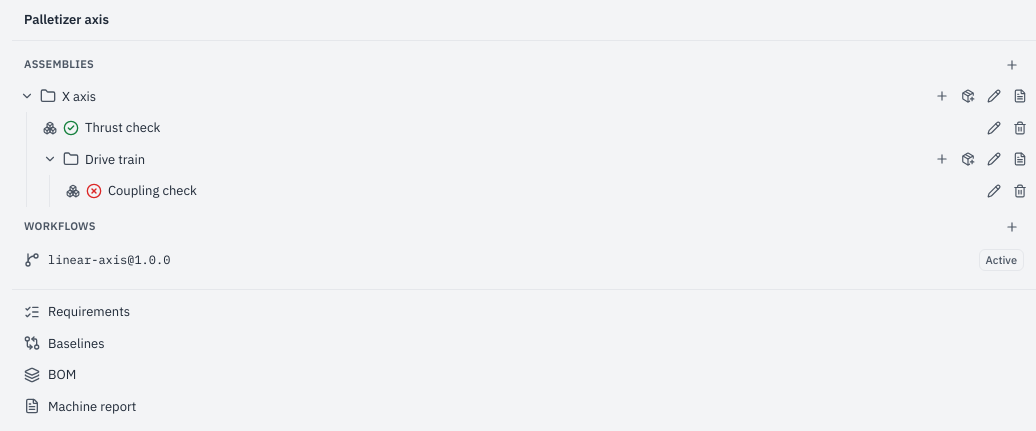
it: MachineNavigator › expands by default and collapses an assembly on click
Expected: the text "Thrust check" is shown, x1=85 y1=118 x2=160 y2=138
Step 1. Click the button "X axis" → click(79, 96), box x1=12 y1=80 x2=928 y2=112
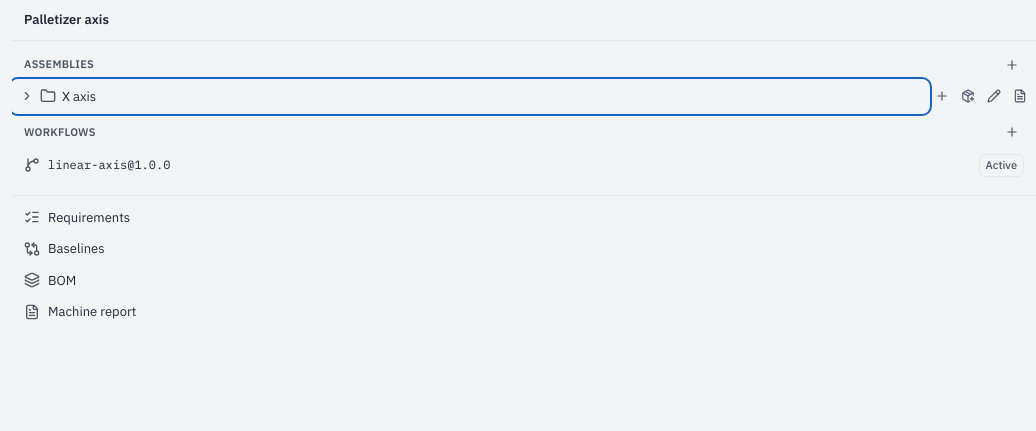
Expected: the button "X axis" is collapsed, x1=12 y1=80 x2=928 y2=112
